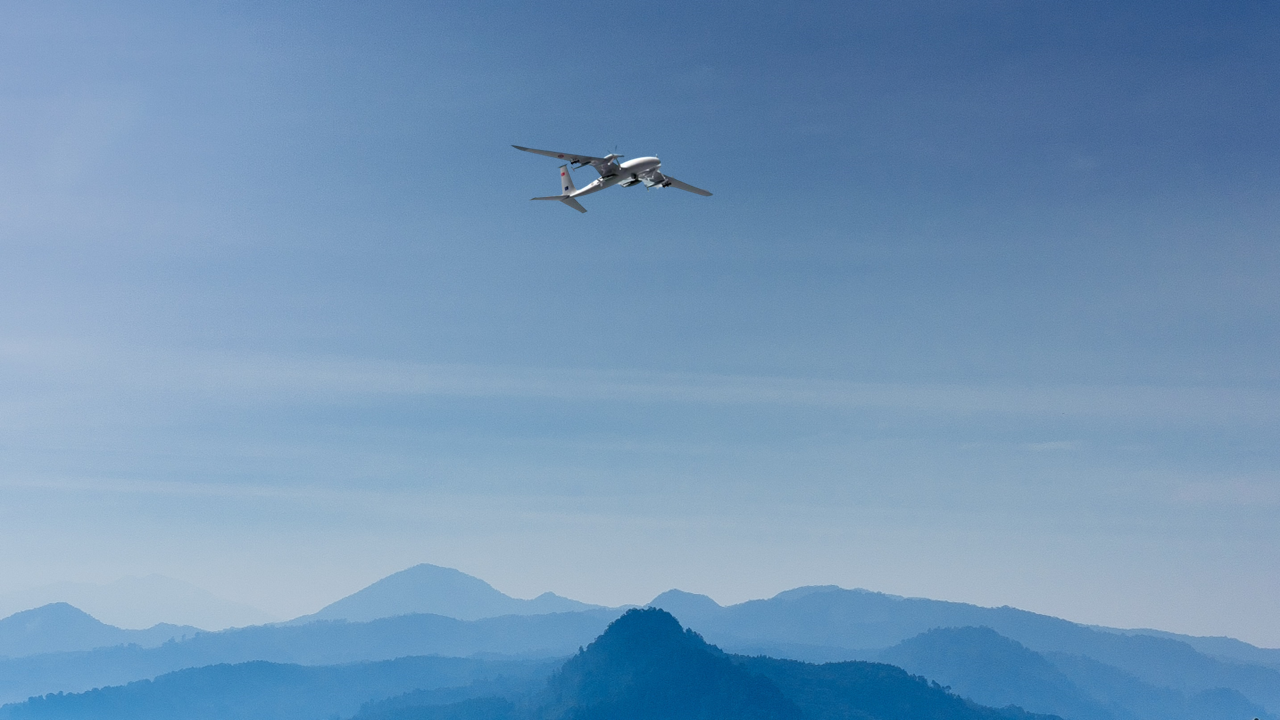military drone: (510, 144, 713, 213)
